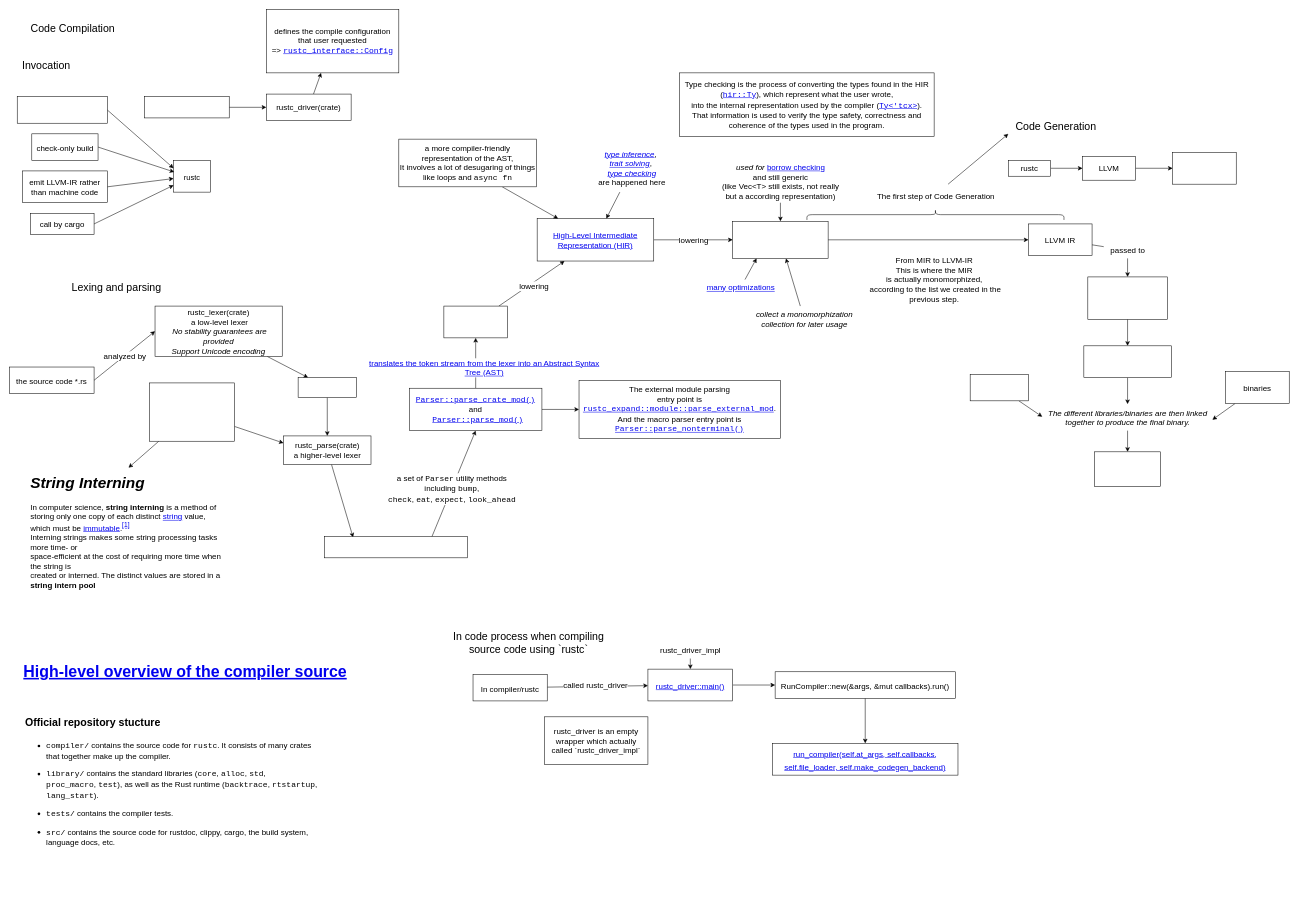
This 1298x917 diagram has some shape labels left out. Each missing label, with the centre of its shape:
*.exe: point (1127, 468)
AST: point (475, 322)
command line parsing: point (186, 107)
emits machine code: point (1127, 361)
executable binary: point (1204, 168)
libraries: point (999, 387)
LLVM (does a lot more optimizations): point (1127, 297)
Mid-level Intermediate Representation (MIR): point (780, 239)
rustc_parse::parser::Parser: point (396, 547)
StringReader perform a set of validations and turn strings into interned symbols: point (192, 411)
tokens: point (327, 387)
with nightly features (pass -Z to rustc): point (62, 109)
